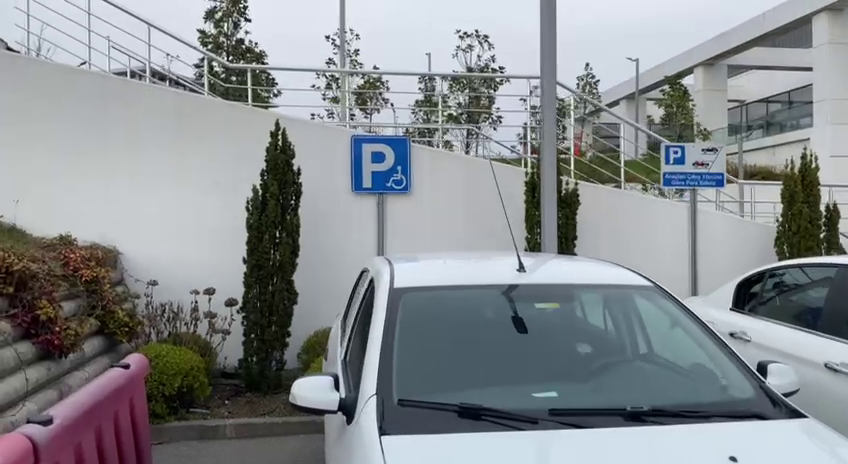parking: (350, 135, 412, 195), (662, 143, 688, 167)
